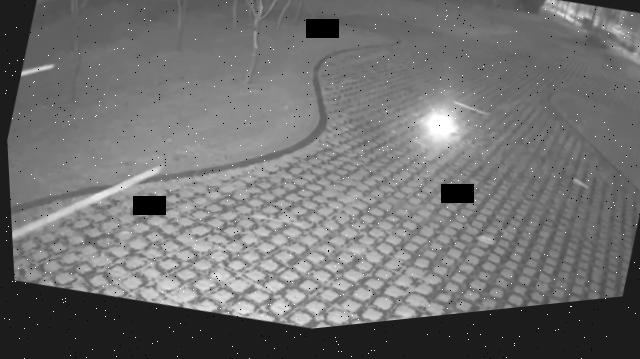fire: (417, 111, 465, 152)
